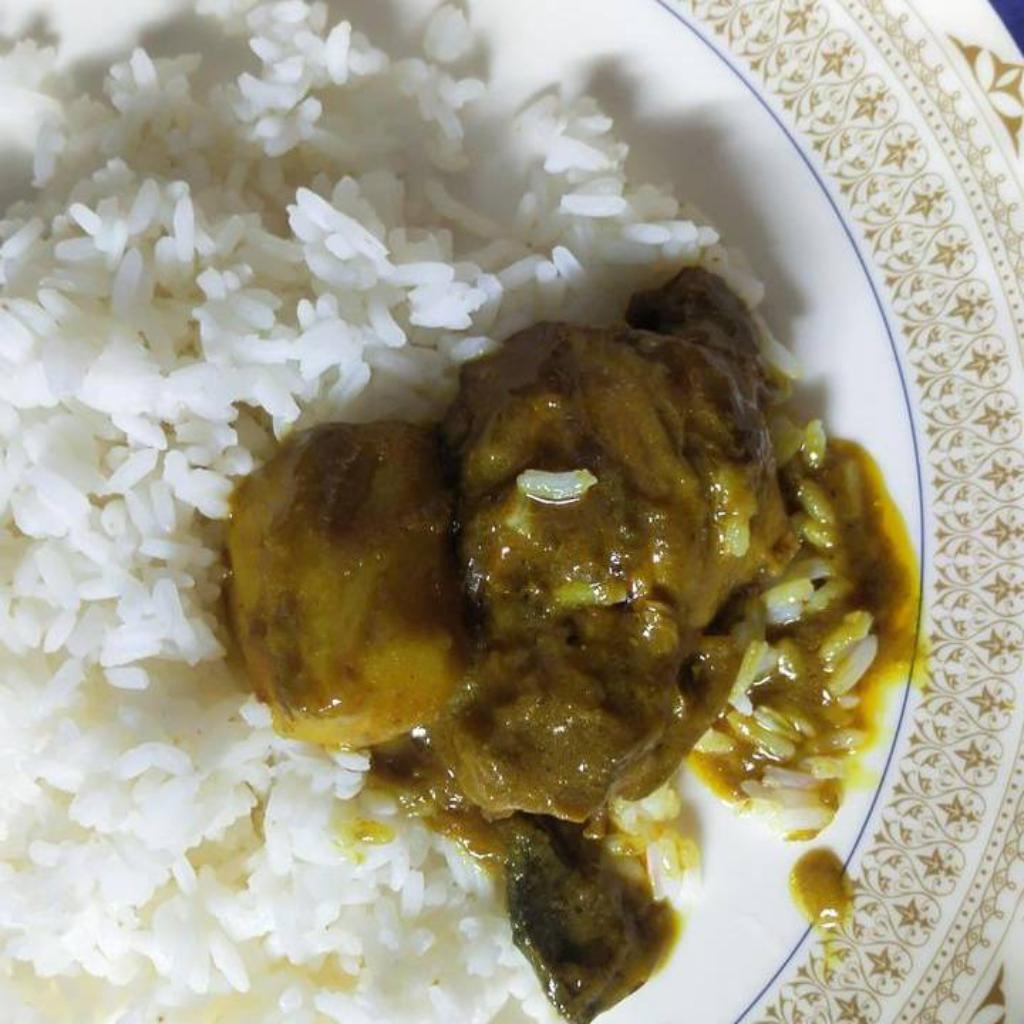chicken: (225, 267, 802, 821)
rice: (0, 0, 735, 1023)
